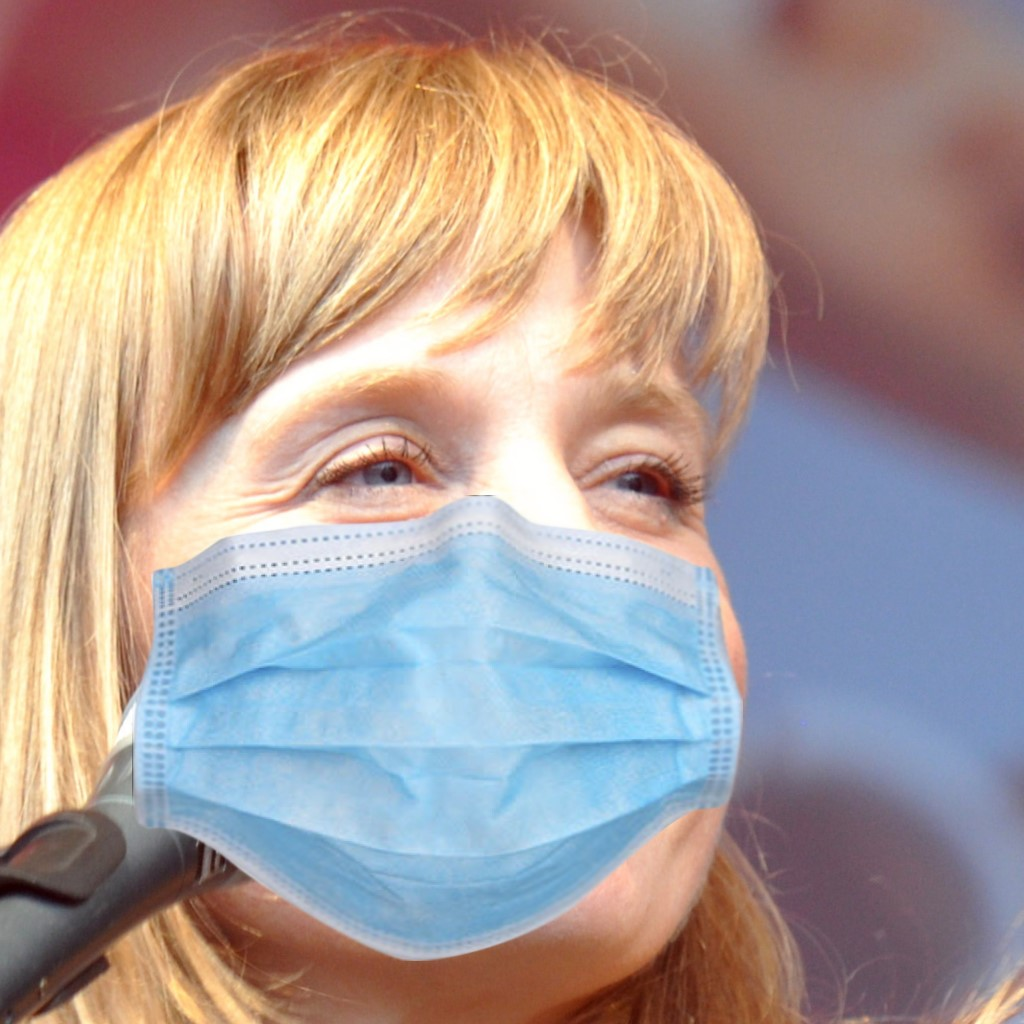con_mascara: (119, 200, 733, 967)
